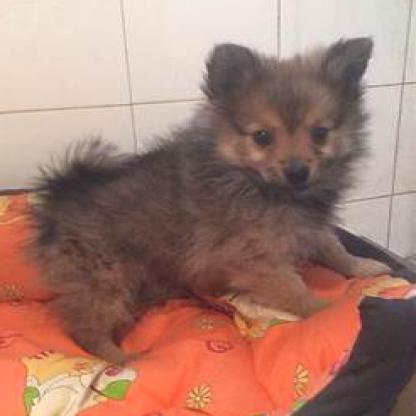dog: (44, 35, 372, 362)
